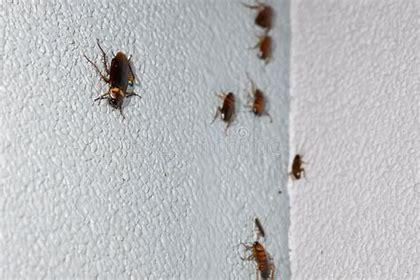cockroach: (82, 33, 147, 129), (232, 238, 277, 280), (245, 76, 277, 128), (210, 83, 239, 136), (243, 3, 286, 31), (248, 33, 280, 68), (287, 147, 313, 186), (251, 217, 269, 238)
